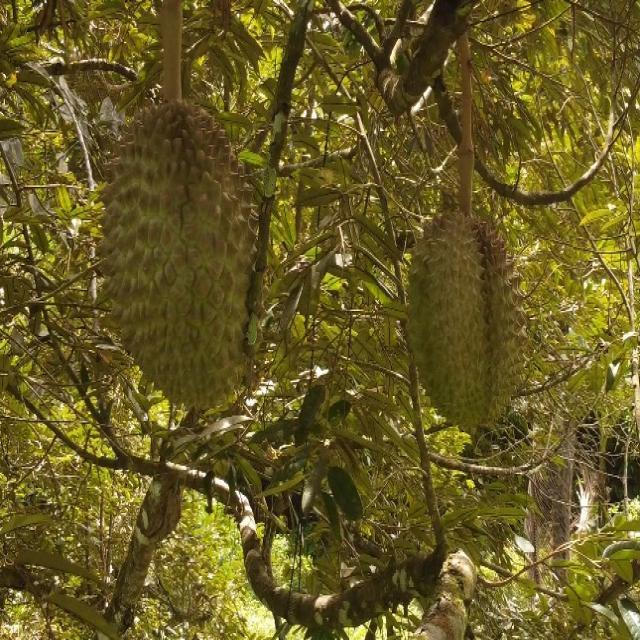mature: (98, 102, 268, 407), (402, 204, 529, 440)
